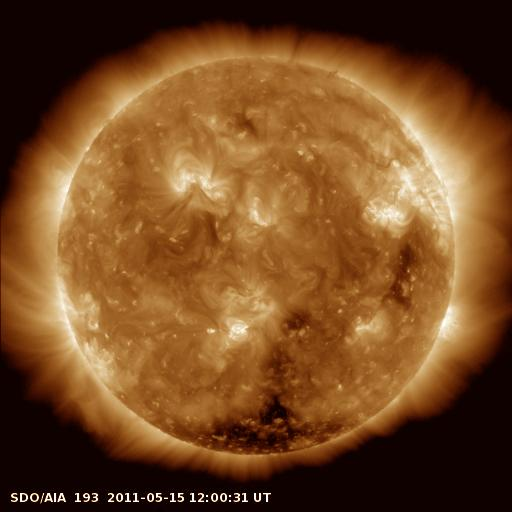coronal_hole: (173, 317, 344, 458), (385, 242, 418, 311)
